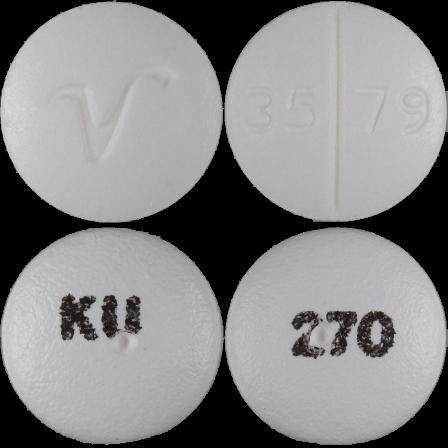68084-469: (0, 0, 224, 224)
